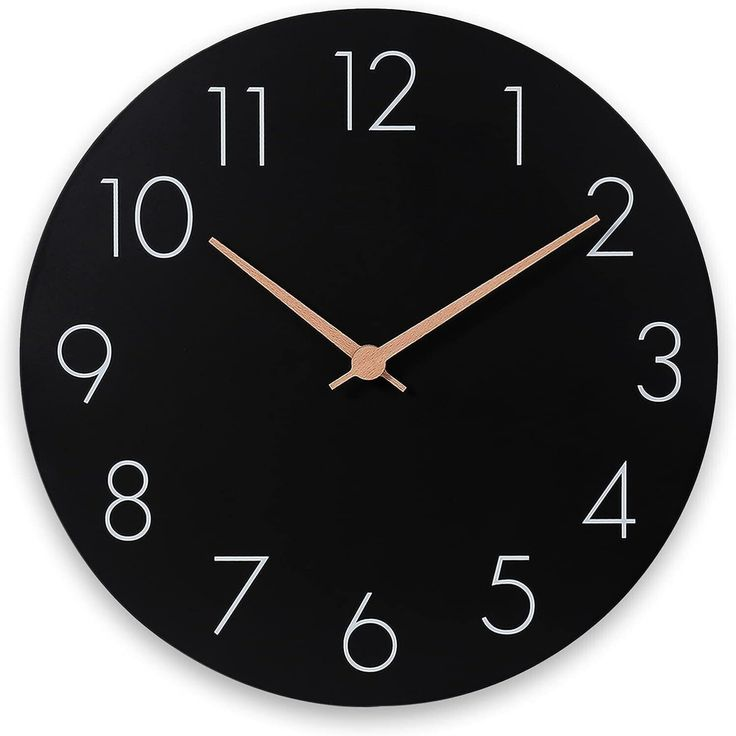clock: (9, 1, 736, 736)
